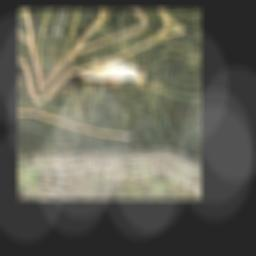Cuckoo: (45, 48, 151, 116)
